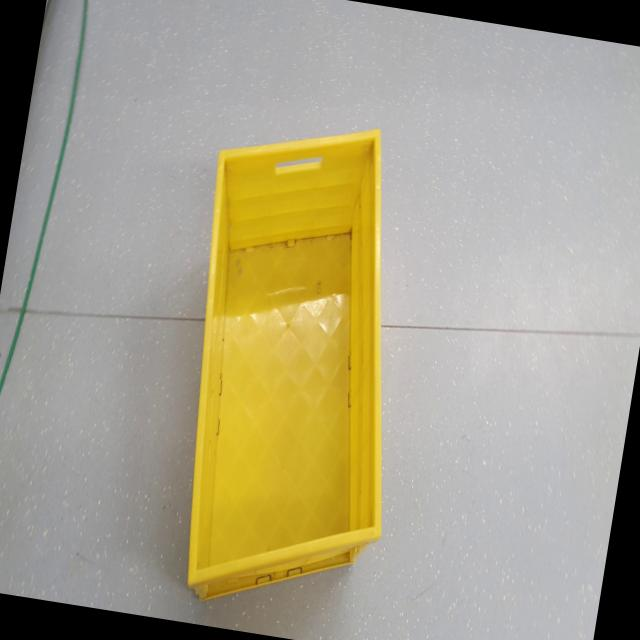box: (144, 95, 451, 632)
